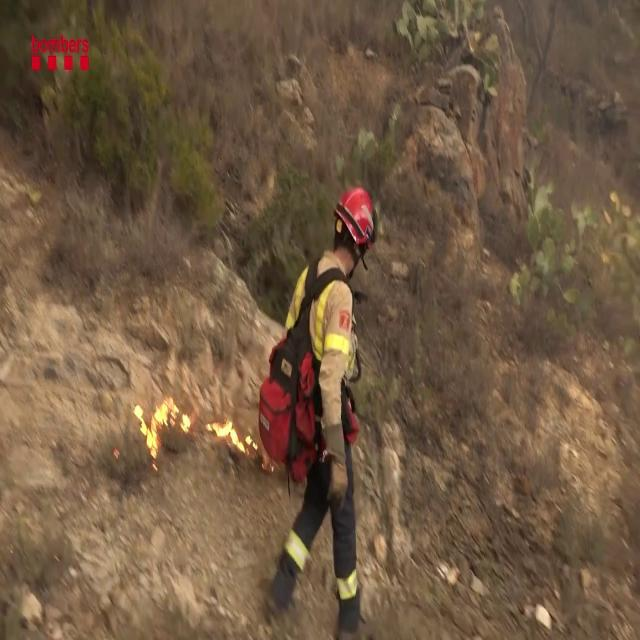Fire: (134, 388, 190, 459), (208, 406, 252, 456)
